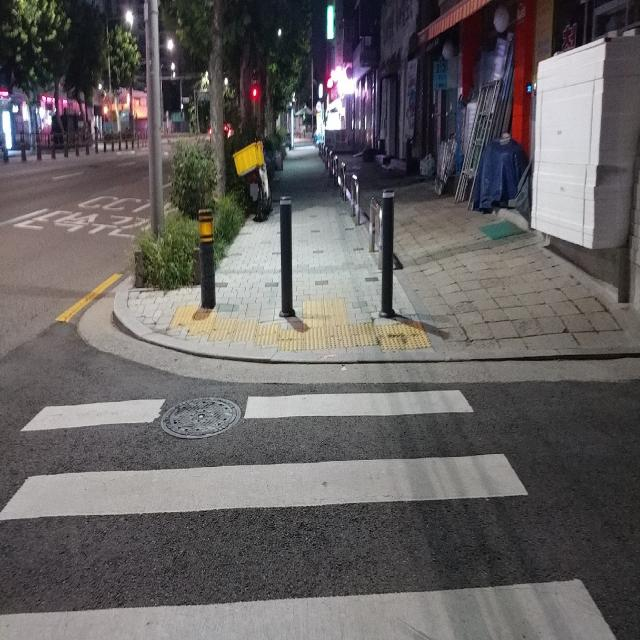횡단보도: (0, 387, 618, 640)
